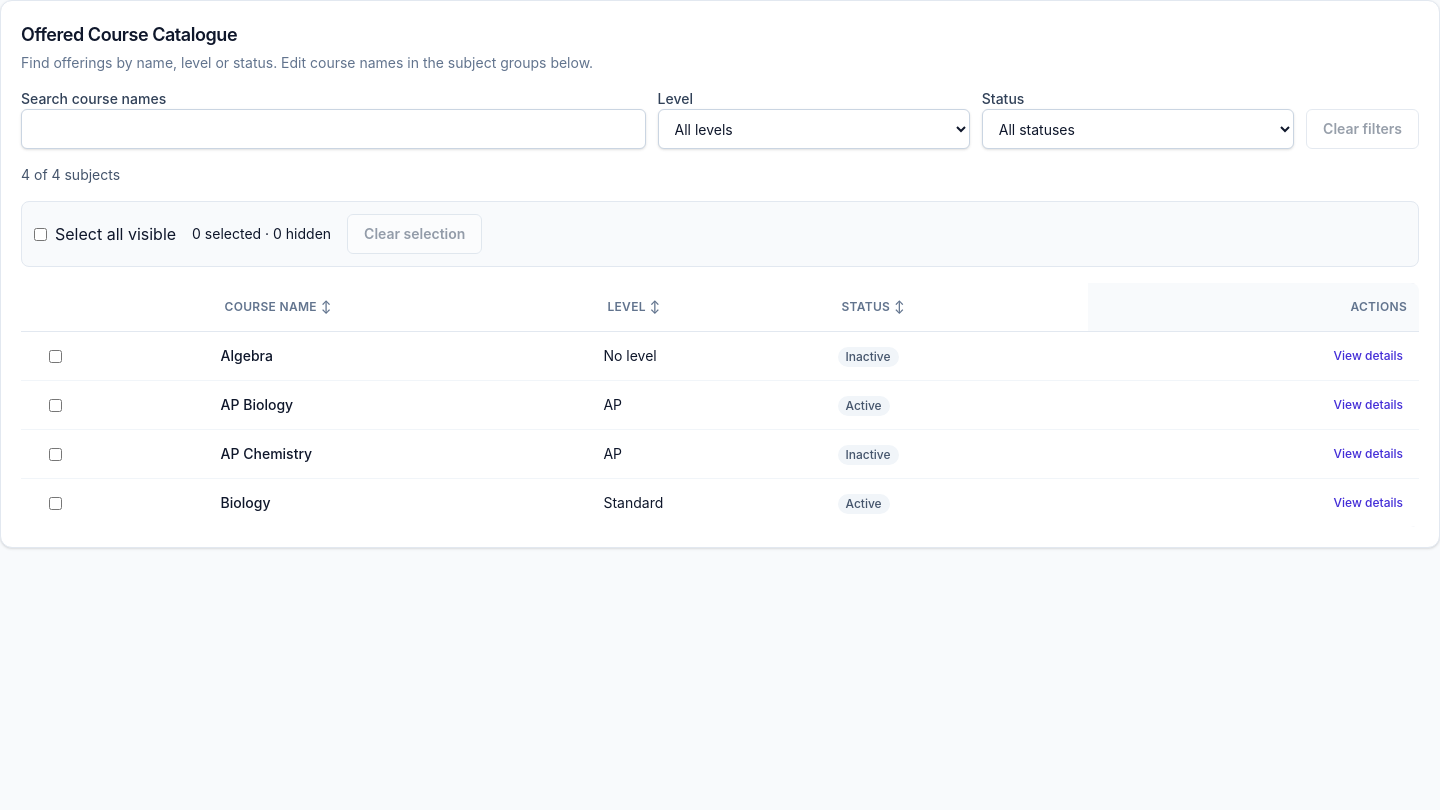
Test: deselects only the visible rows and shows partial selection accurately
Click the checkbox named "Select Algebra".
click(55, 356)  # box [48,350,62,362]
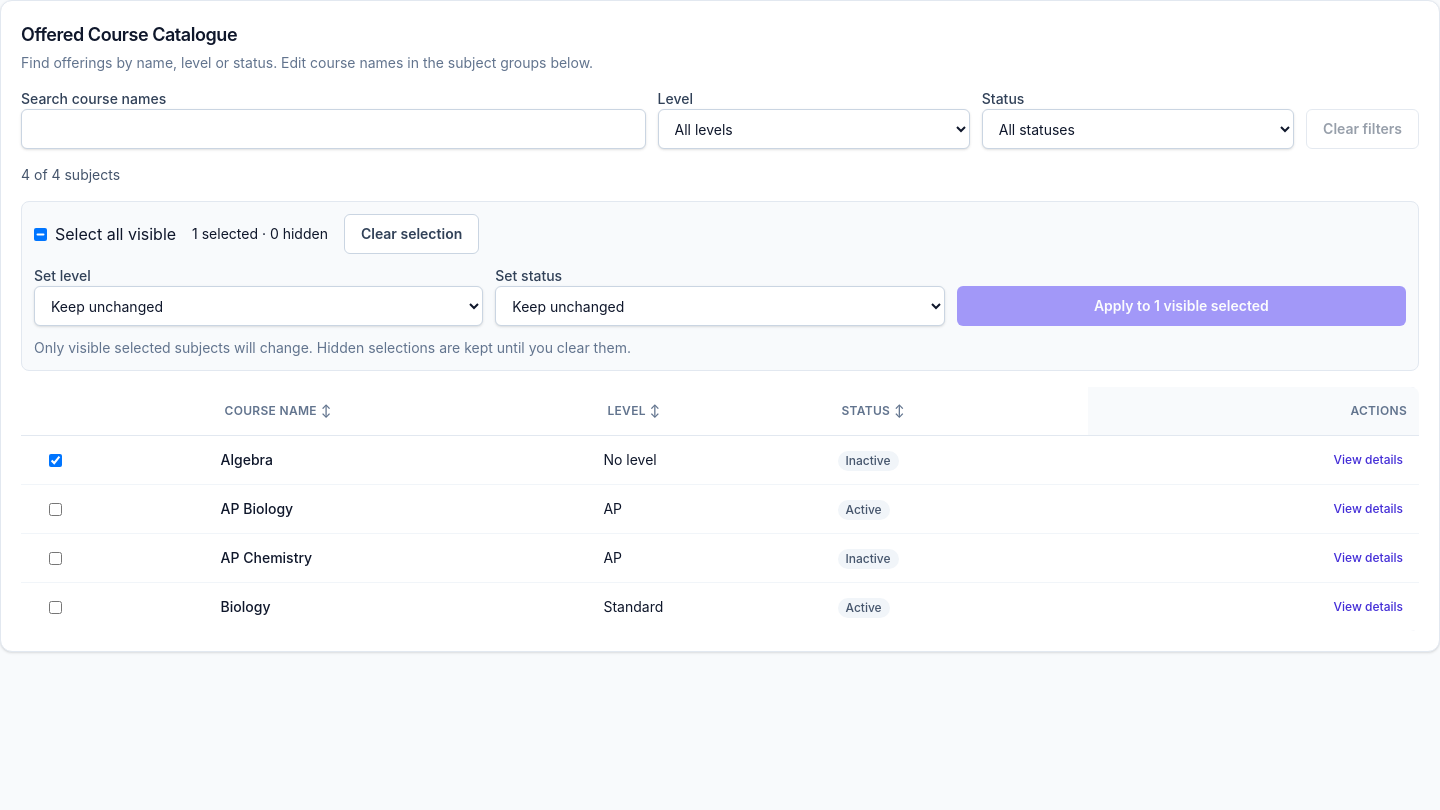
Click the checkbox labelled "Select all visible".
click(40, 234)  # box [34,228,47,240]
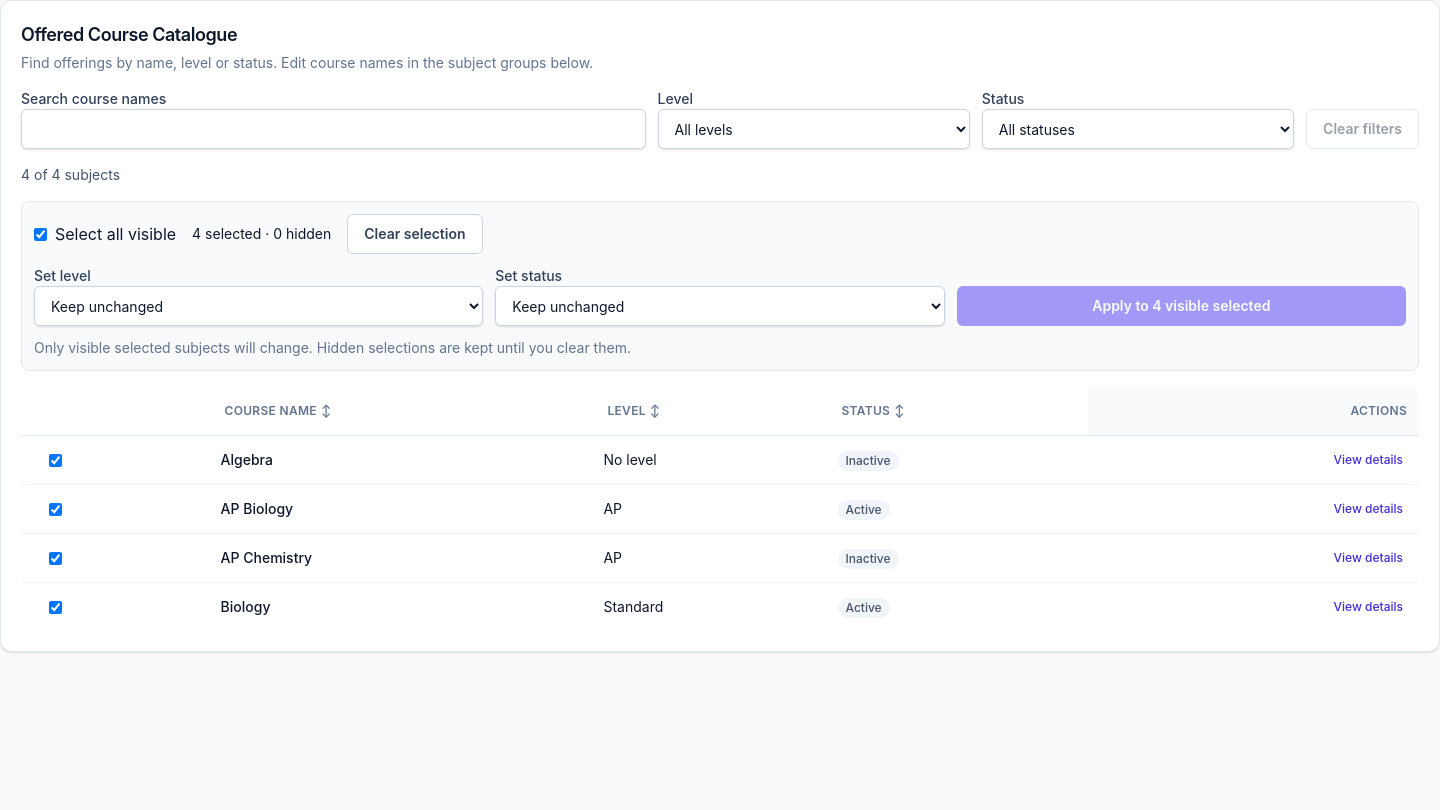
Select "AP" in the dropdown labelled "Level" at (814, 129), box [658,109,970,149]
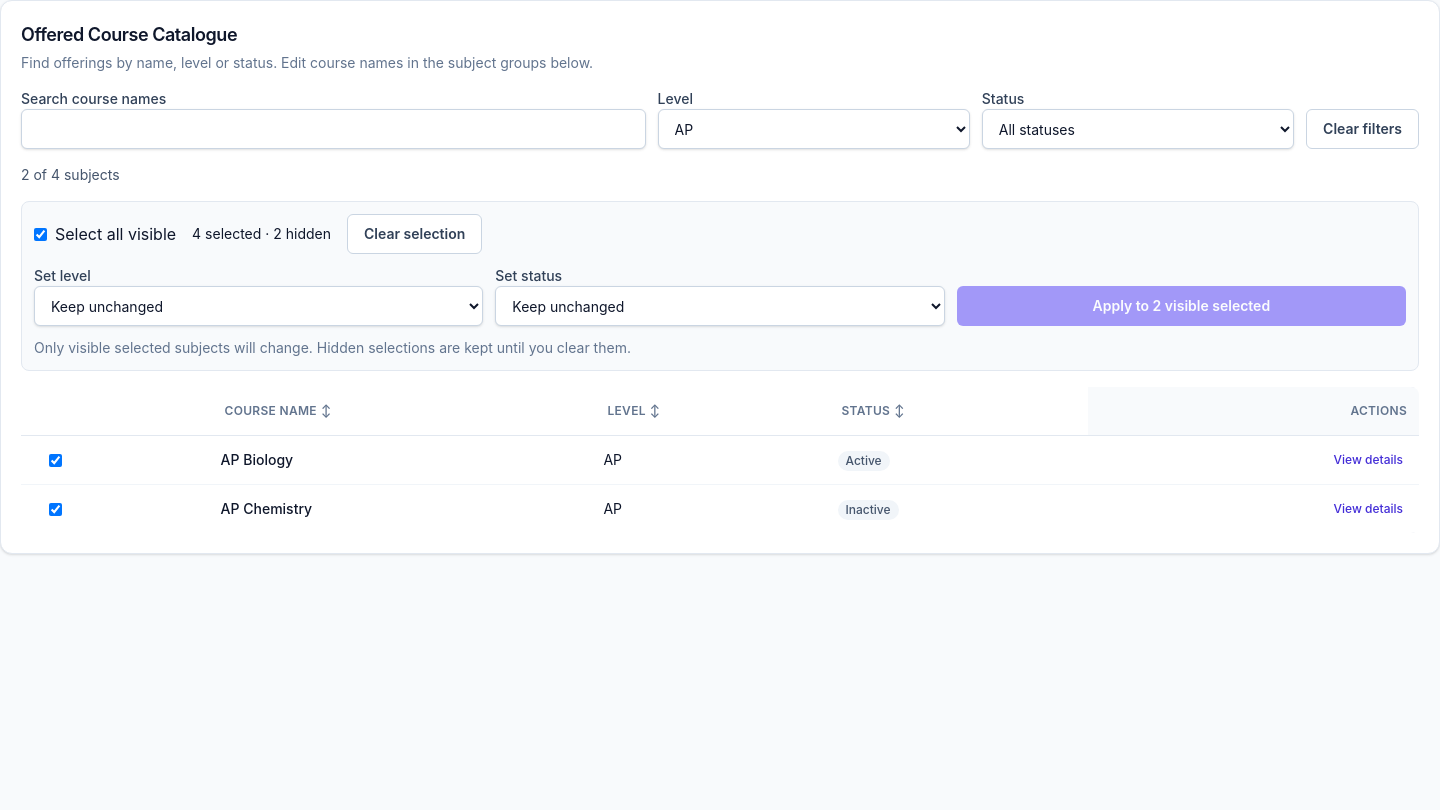
Click the checkbox labelled "Select all visible".
click(40, 234)  # box [34,228,47,240]
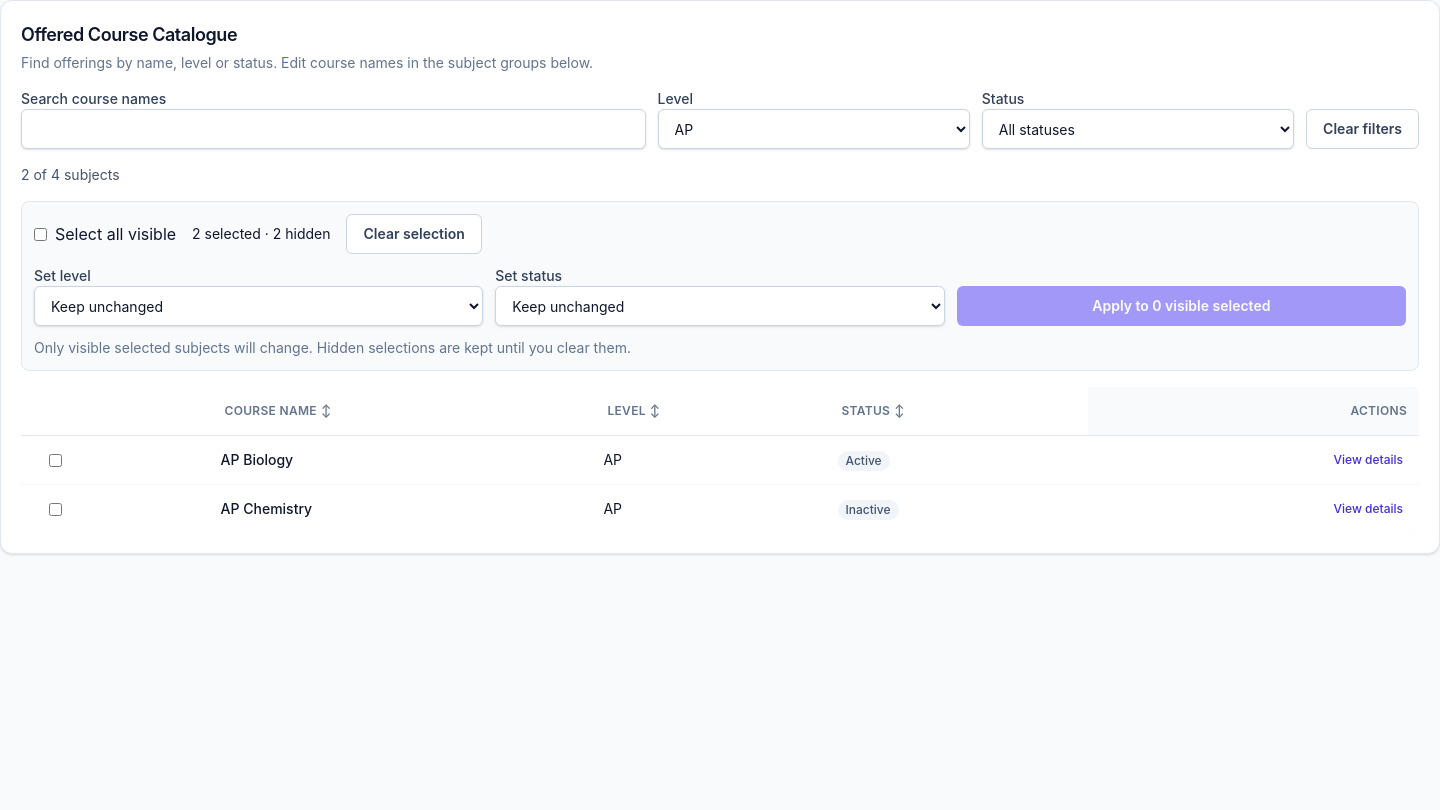
Now the text "2 selected · 2 hidden" is shown, box [192,224,330,244]
